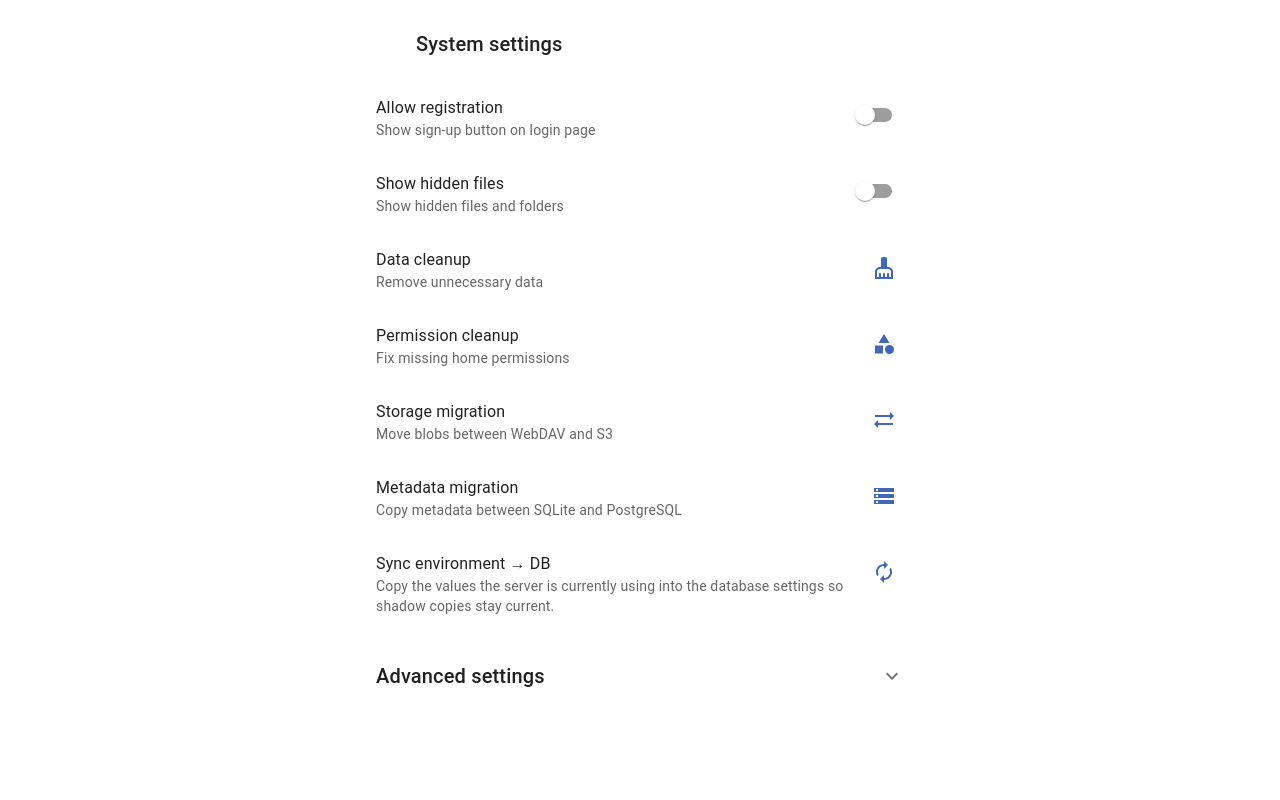
SystemSettingsContent › data cleanup runs and reports "no data to clean" on an all-zero GC result
Expected: the text "Data cleanup" is shown, top-left (376, 250), bottom-right (471, 269)
Step 1. Click the button named "clean up" → [884, 268], box top-left (864, 248), bottom-right (904, 288)
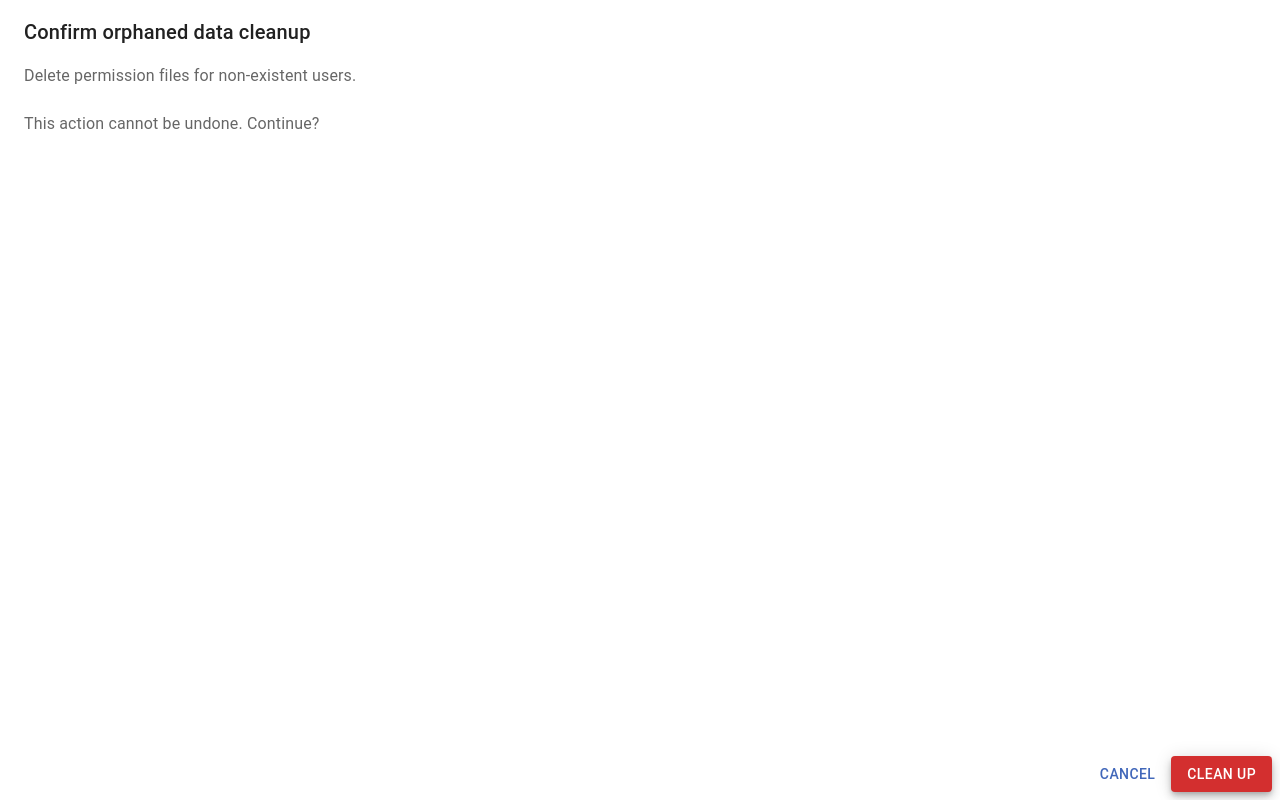
Now the dialog "Confirm orphaned data cleanup" is shown
Now the text "Delete permission files for non-existent users" is shown, box top-left (24, 66), bottom-right (356, 85)
Step 2. Click the button "Clean up" → [1222, 774], box top-left (1171, 756), bottom-right (1272, 792)
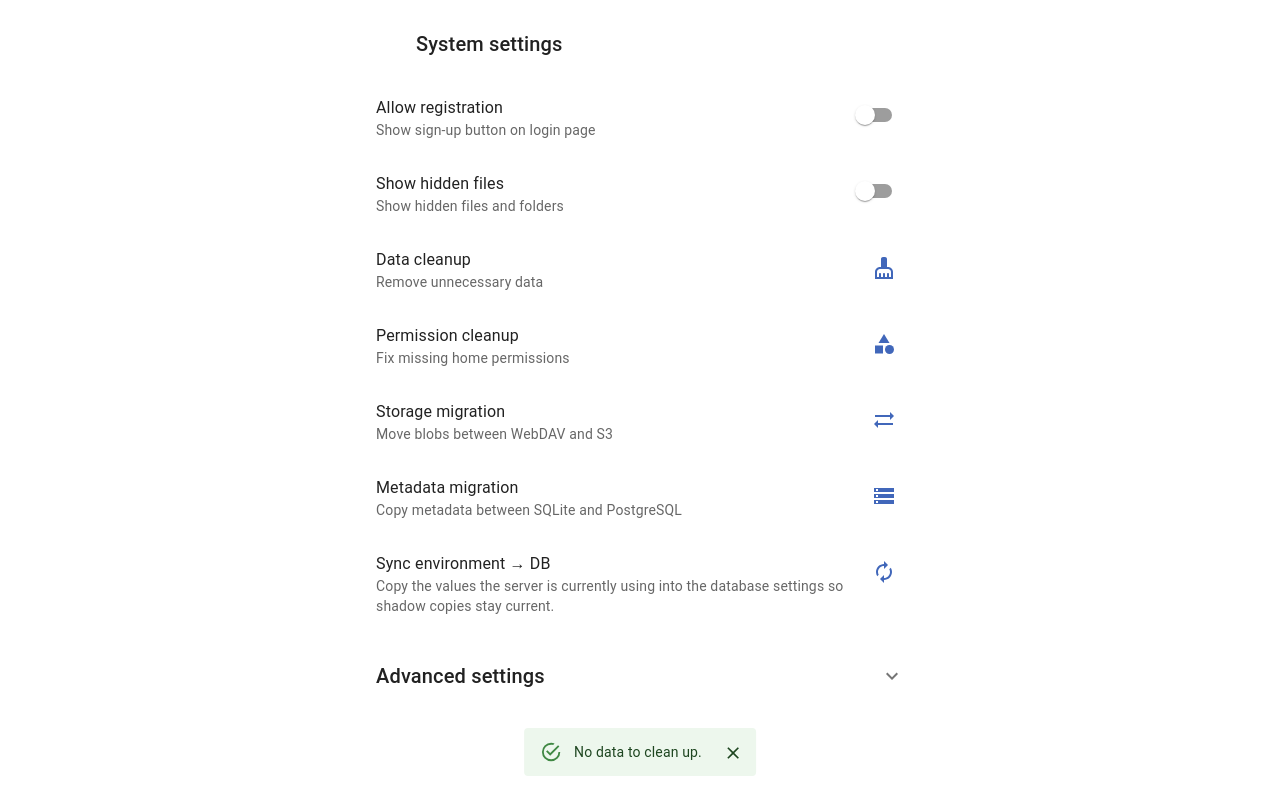
Now the text "No data to clean up." is shown, box top-left (574, 744), bottom-right (702, 760)
